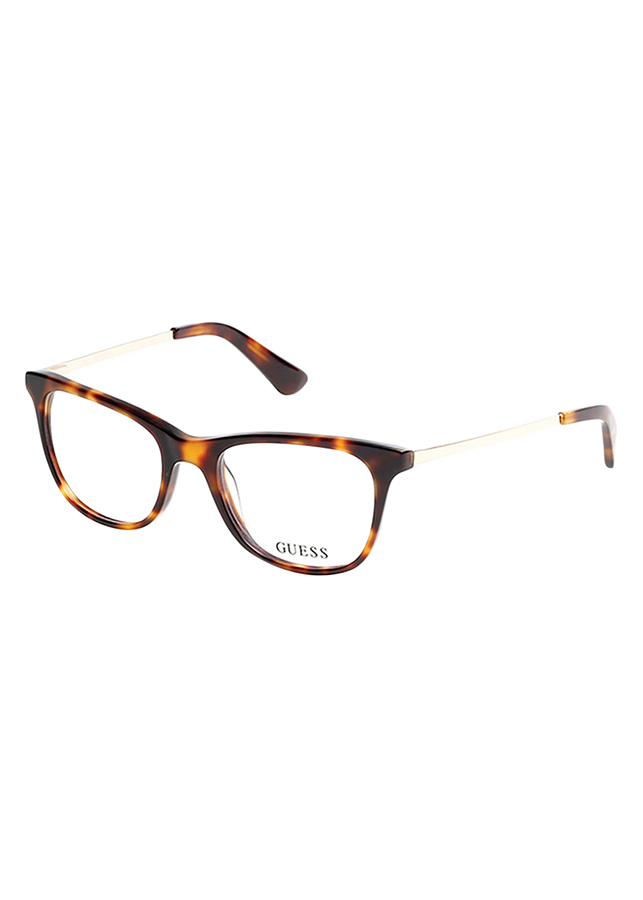Guess: (268, 535, 335, 564)
